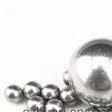ironball: (62, 33, 111, 106), (57, 87, 77, 106), (22, 81, 42, 99), (4, 82, 21, 103), (40, 82, 59, 99), (27, 94, 45, 111), (46, 98, 63, 112), (79, 106, 105, 111)
